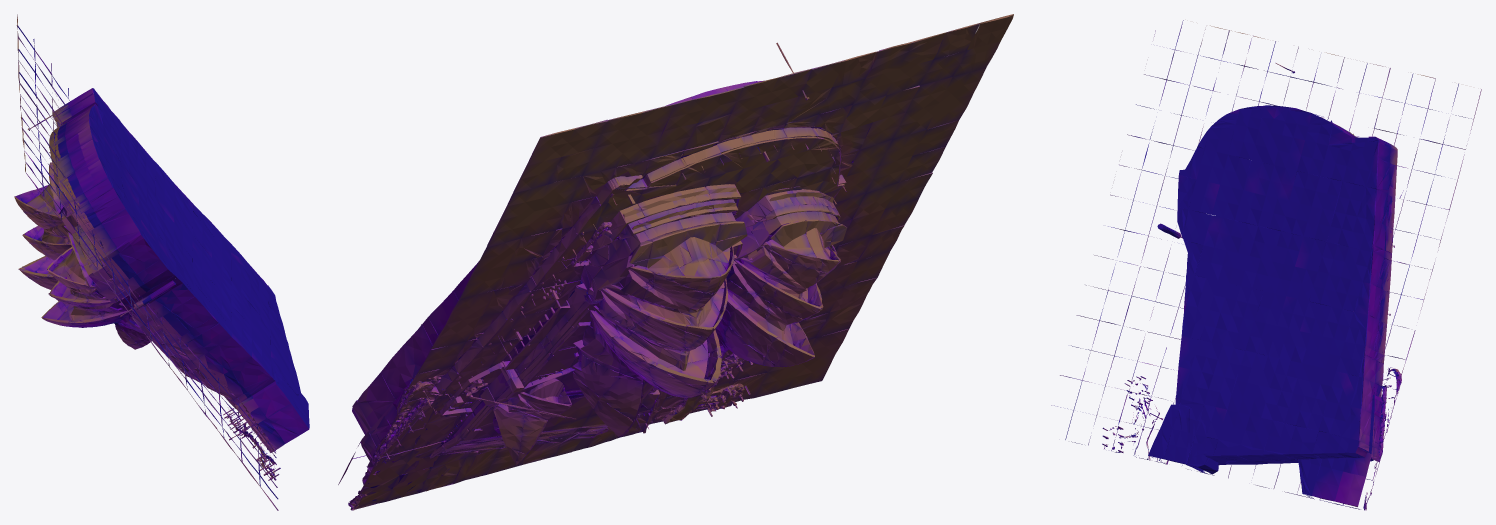
The model's file is result.glb.
3 views of the same model, side by side, from view 1: azimuth 30°, elevation 25°; view 2: azimuth 150°, elevation 25°; view 3: azimuth 270°, elevation 25° (orthographic). The views are drawn at different scales.
Parts seen in each view (by area): view 1: geometry_0; view 2: geometry_0; view 3: geometry_0.
Part boxes in pixels (bbox=[...]): geometry_0: bbox=[14, 14, 309, 510]; geometry_0: bbox=[338, 14, 1013, 510]; geometry_0: bbox=[1051, 20, 1481, 510].
Bounding box in the file's own units: 244 × 224 × 267.
